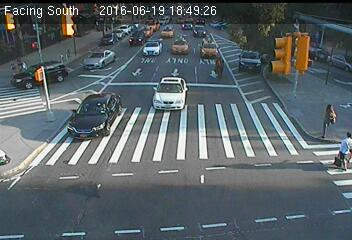neg: (211, 51, 230, 76), (136, 59, 152, 80), (164, 81, 178, 100), (239, 81, 253, 100), (227, 113, 241, 132), (212, 159, 225, 176), (163, 190, 176, 207), (246, 177, 258, 193)
pos: (314, 100, 345, 140), (328, 127, 351, 174), (12, 53, 30, 76)
